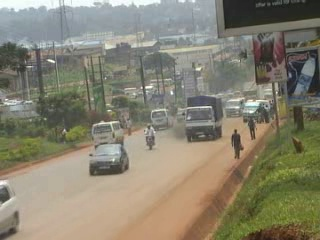Car: (87, 139, 131, 177), (0, 175, 21, 237), (175, 105, 190, 124)
Motorcycle: (141, 122, 157, 151)
